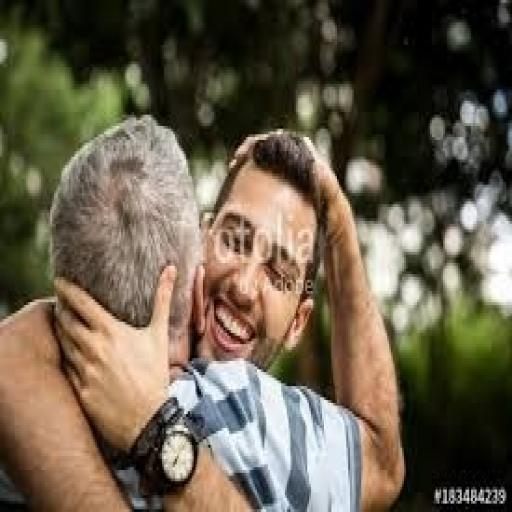hugging: (0, 112, 408, 509)
